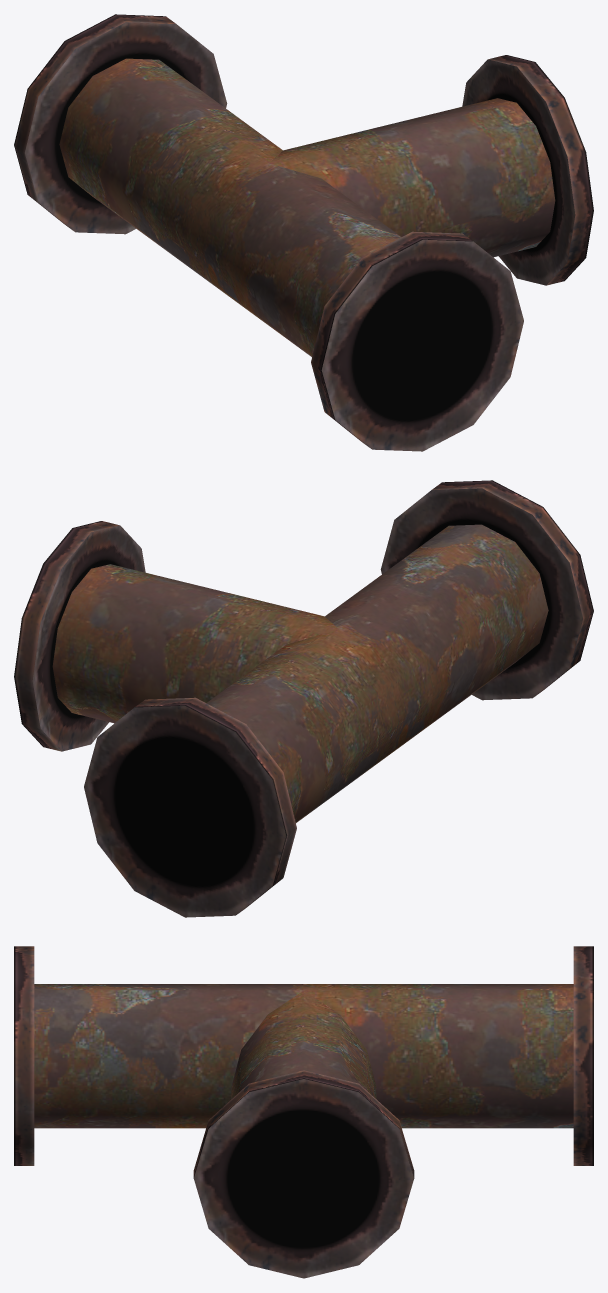
The model's file is pipe02_T.fbx.
The picture shows the model from 3 angles, top to bottom: view 1: azimuth 30°, elevation 25°; view 2: azimuth 150°, elevation 25°; view 3: azimuth 270°, elevation 25°; orthographic projection. The views are drawn at different scales.
Visible parts, largest first — view 1: pipe02_T; view 2: pipe02_T; view 3: pipe02_T.
Boxes of the visible parts, x1=… form: pipe02_T: x1=14, y1=14, x2=593, y2=451; pipe02_T: x1=14, y1=480, x2=593, y2=917; pipe02_T: x1=14, y1=946, x2=593, y2=1278.
Bounding box in the file's own units: 69 × 38 × 100.
